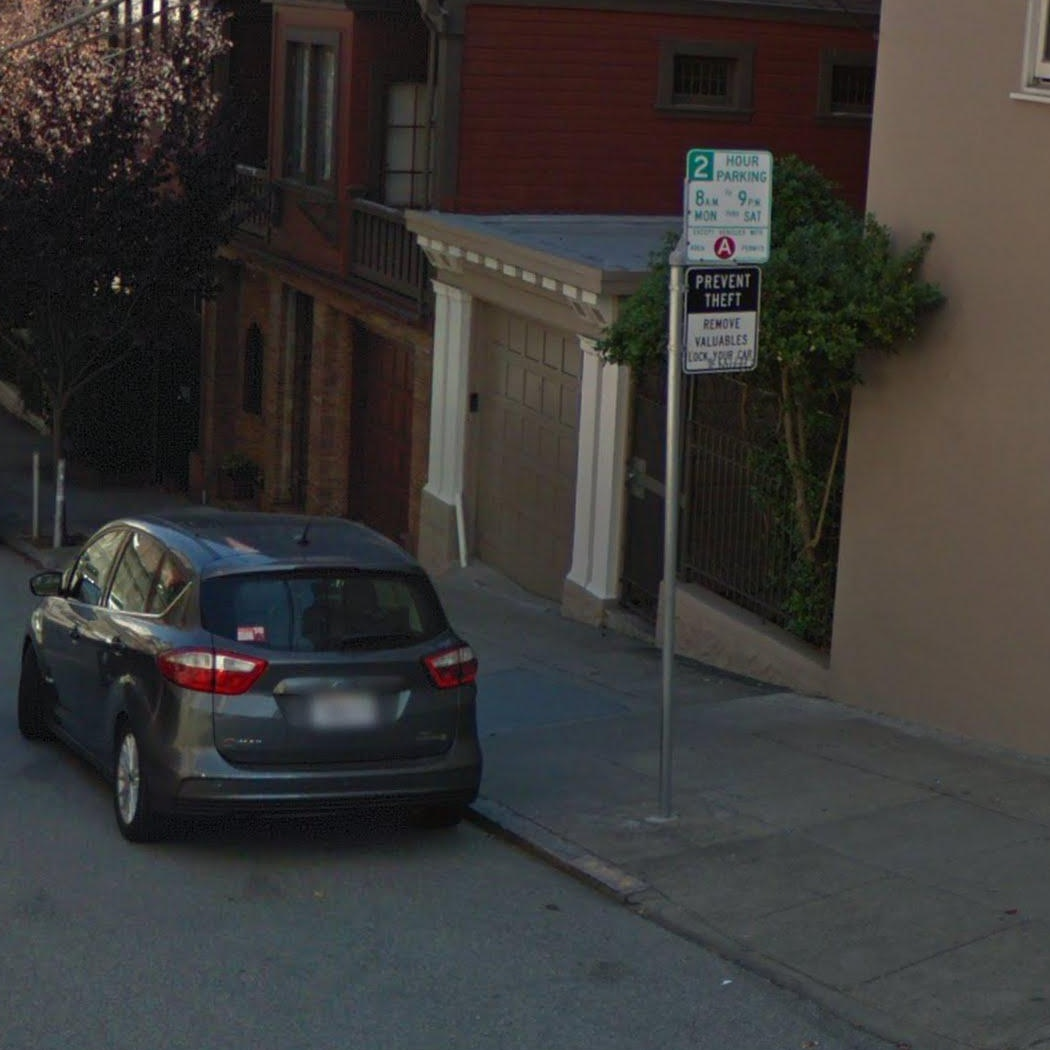2 Hour Parking: (682, 147, 773, 266)
